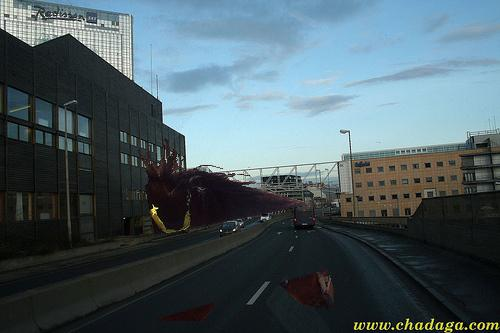tampered: (138, 135, 334, 321)
